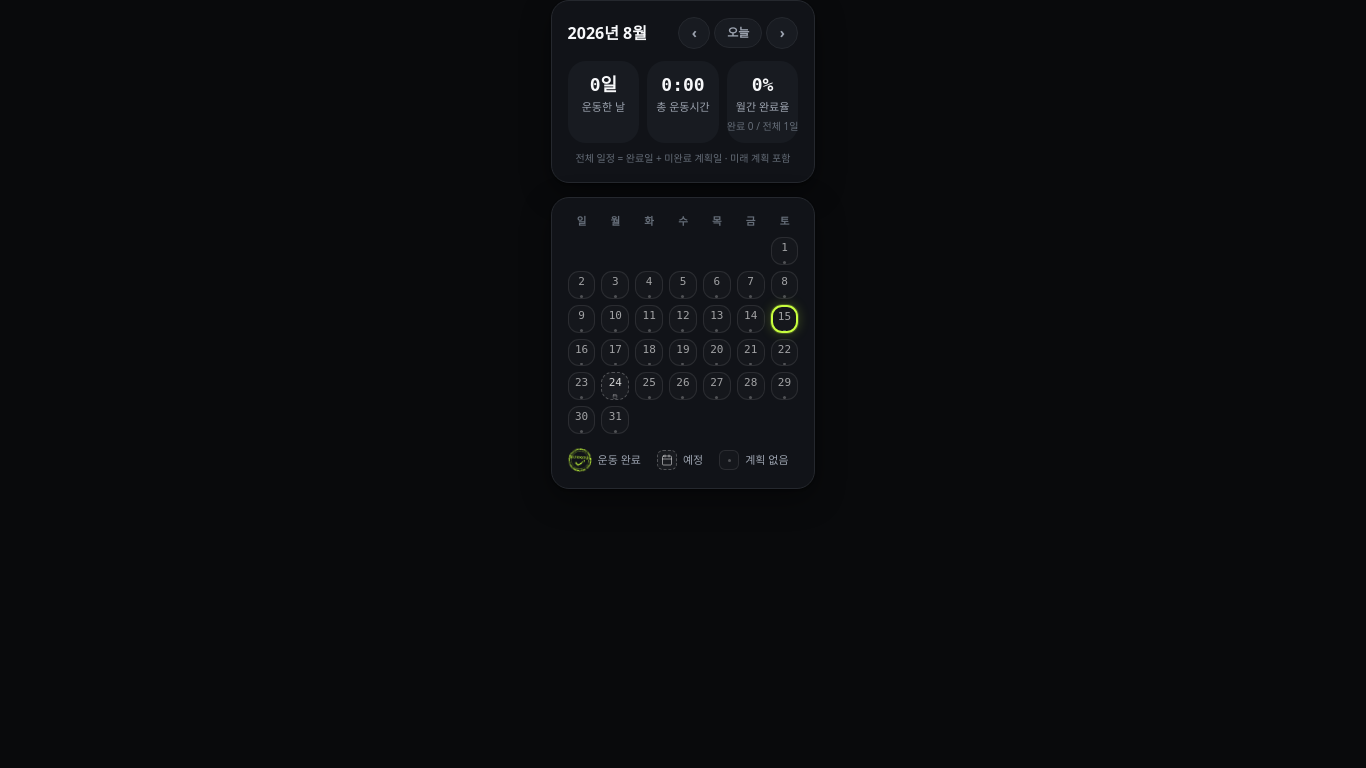
Scenario: CalendarView — 프로그램 진행 표시 (2026-08-12) › 회차 번호를 A·B·C로 옮긴다 — 3회차는 C다
expect the heading "2026년 8월" is shown: met, box [568, 21, 647, 45]
Click the button named "8월 24일," at (615, 386), box [601, 372, 629, 400]
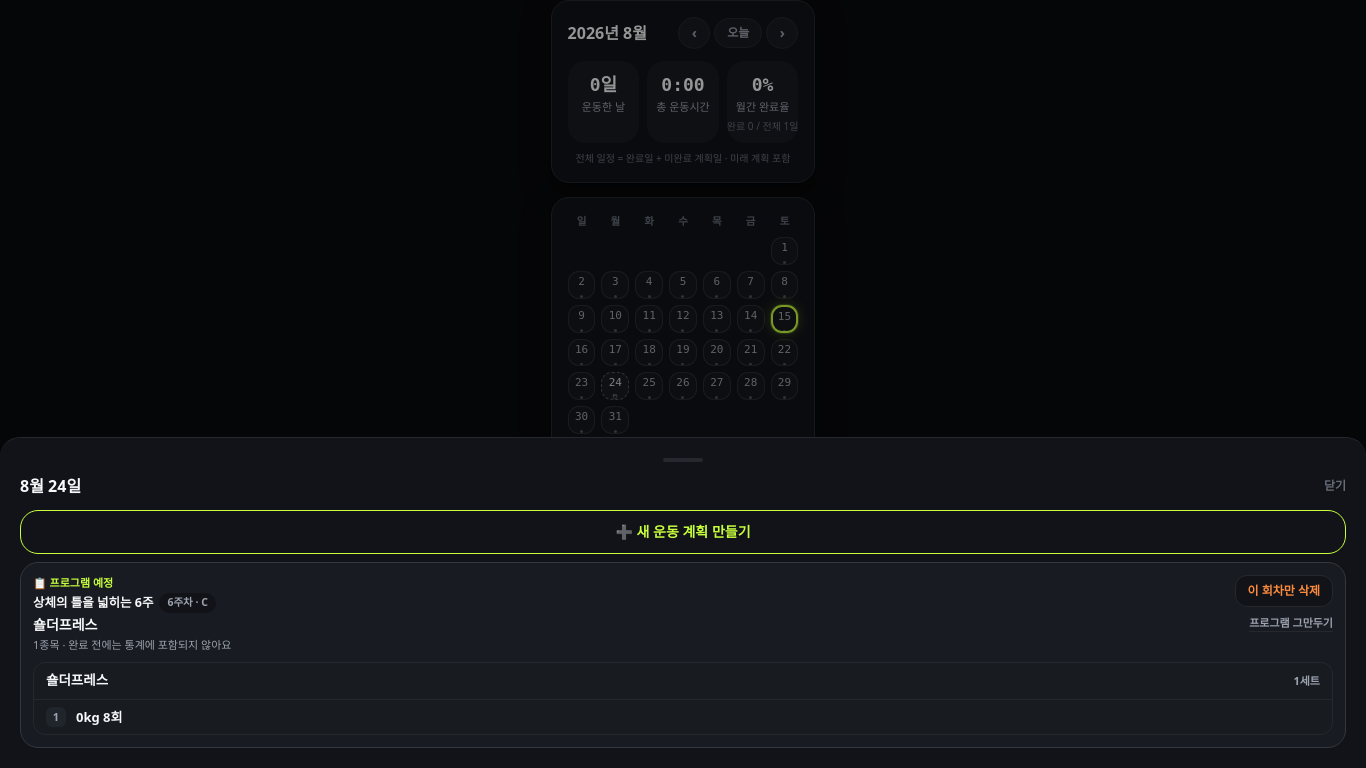
expect the text "6주차 · C" is shown: met, box [159, 593, 216, 612]
